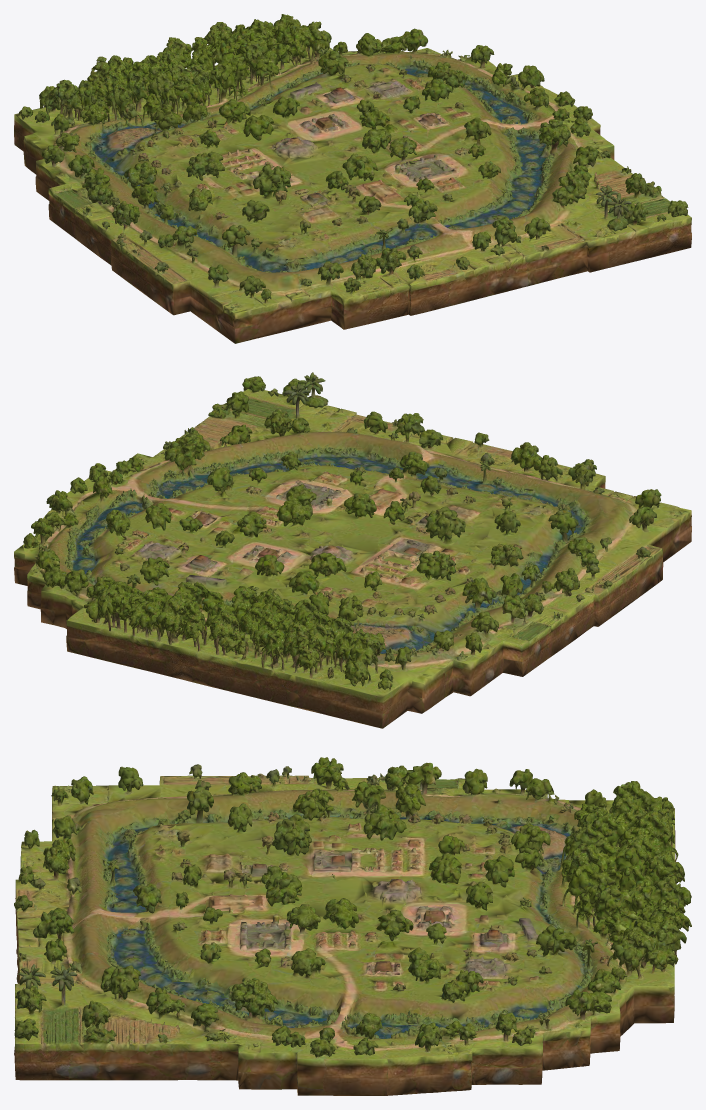
File: sap-champa.ar.glb
3 views of the same model, one above another, from view 1: azimuth 30°, elevation 25°; view 2: azimuth 150°, elevation 25°; view 3: azimuth 270°, elevation 25° (orthographic). The views are drawn at different scales.
Bounding box in the file's own units: 0.3997 × 0.0577 × 0.4.
Materials: 1 (1 with a texture image).
